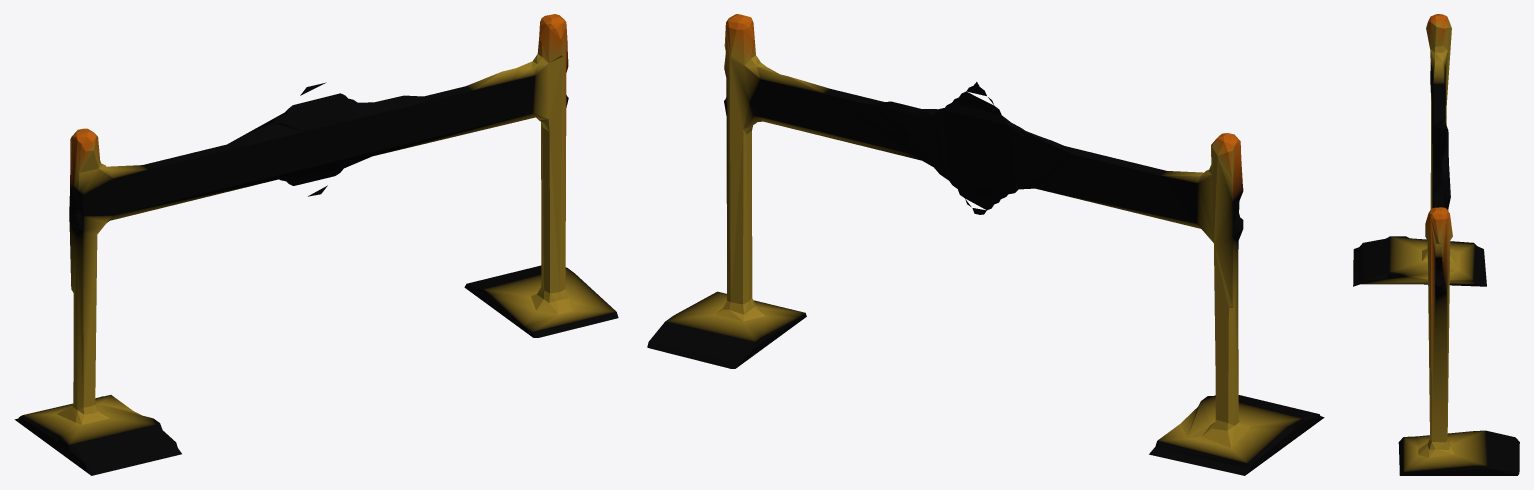
The model's file is Construction Barriers.glb.
3 views of the same model, side by side, from view 1: azimuth 30°, elevation 25°; view 2: azimuth 150°, elevation 25°; view 3: azimuth 270°, elevation 25° (orthographic). The views are drawn at different scales.
Visible parts, largest first — view 1: Root; view 2: Root; view 3: Root.
Boxes of the visible parts, x1,y1,x2,y2 form: Root: [14, 14, 618, 475]; Root: [647, 14, 1324, 475]; Root: [1353, 14, 1519, 475].
Size of the model in its own units: 1.79 by 0.9119 by 0.5462.
